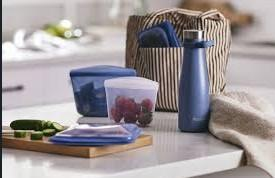bottle: (173, 20, 221, 128)
